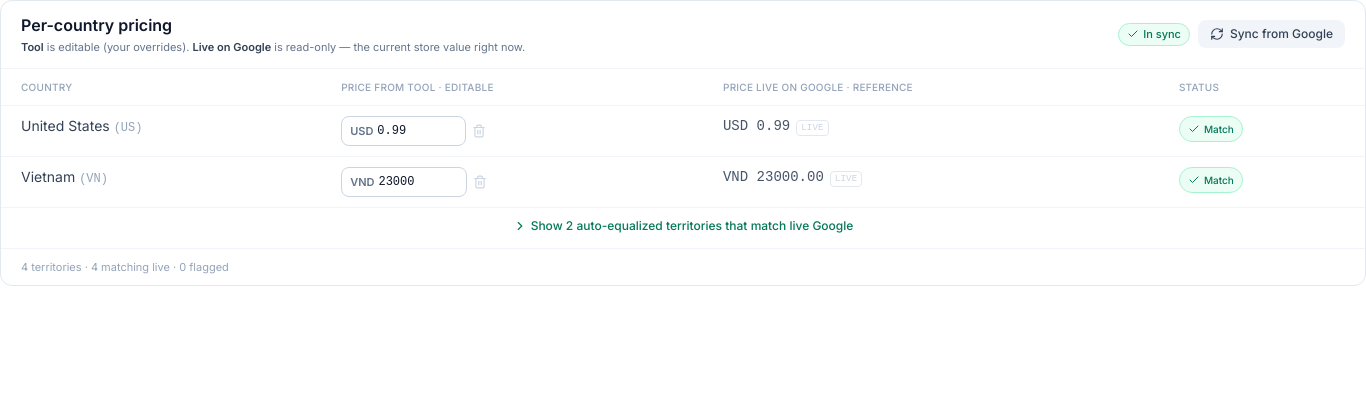
UnifiedPricingTable › collapses matched auto-equalized rows but keeps them in the set (expandable)
Expected: the text "In sync" is shown, [1118,23,1190,46]
Expected: the text "(PR)" is not shown
Click the button "Show 2 auto-equalized territories that match live Google": (683,226) [513,218,853,234]
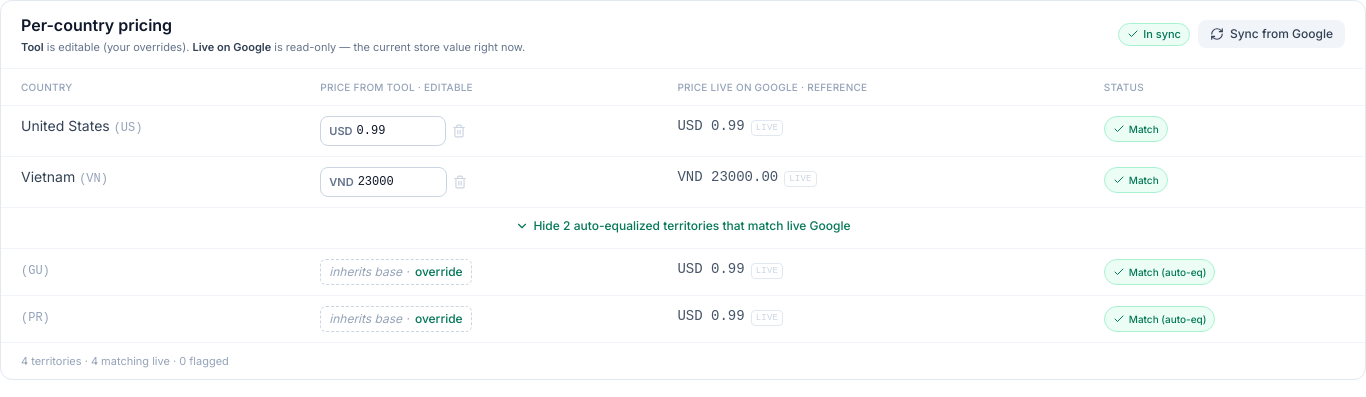
Expected: the text "(PR)" is shown, [21,310,50,324]
Expected: the text "(GU)" is shown, [21,264,50,278]
